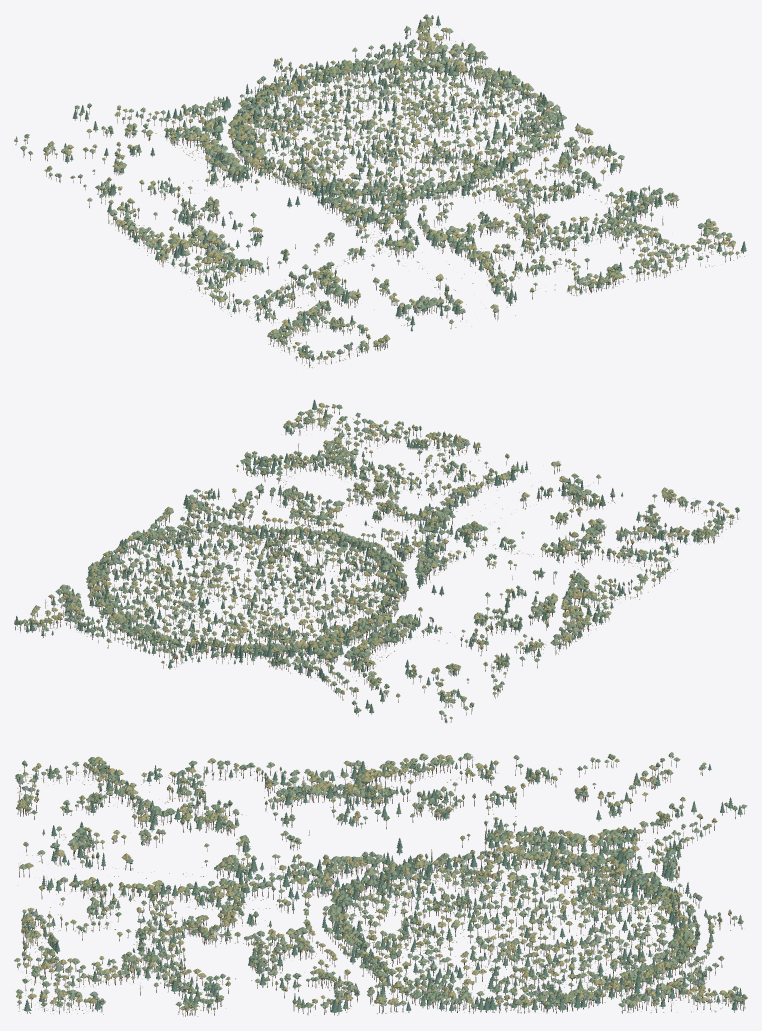
The model's file is south-retro-vegetation.glb.
3 renders of one model, top to bottom at view 1: azimuth 30°, elevation 25°; view 2: azimuth 150°, elevation 25°; view 3: azimuth 270°, elevation 25°, orthographic. The views are drawn at different scales.
Visible parts, largest first — view 1: Retro_n2_n4, Retro_n7_n3, Retro_5_n7, Retro_3_n9, Retro_n1_n3, Retro_4_n8, Retro_0_n9, Retro_5_n6, Retro_n3_n6, Retro_n2_n2, Retro_n6_n1, Retro_n1_n2 (+9 smaller); view 2: Retro_n2_n8, Retro_n1_n9, Retro_n3_n7, Retro_n2_n4, Retro_5_n7, Retro_5_n5, Retro_3_n9, Retro_n3_n6, Retro_n1_n3, Retro_2_n10, Retro_5_1, Retro_3_n3 (+8 smaller); view 3: Retro_n2_n8, Retro_5_n7, Retro_5_1, Retro_n3_n7, Retro_n3_n6, Retro_n2_n7, Retro_n6_n2, Retro_n2_n4, Retro_n1_n3, Retro_5_n4, Retro_n6_n1, Retro_5_n5 (+86 smaller).
Part boxes in pixels (x1,y1,x2,y2): Retro_n2_n4: (293, 168, 341, 198); Retro_n7_n3: (142, 232, 192, 262); Retro_5_n7: (473, 67, 520, 95); Retro_3_n9: (363, 57, 414, 87); Retro_n1_n3: (348, 175, 396, 205); Retro_4_n8: (423, 57, 467, 90); Retro_0_n9: (260, 79, 308, 112); Retro_5_n6: (490, 81, 539, 112); Retro_n3_n6: (218, 151, 267, 179); Retro_n2_n2: (338, 202, 380, 227); Retro_n6_n1: (216, 254, 262, 282); Retro_n1_n2: (371, 188, 408, 219); Retro_n2_n8: (289, 634, 340, 663); Retro_n1_n9: (239, 641, 292, 667); Retro_n3_n7: (348, 625, 393, 655); Retro_n2_n4: (364, 574, 408, 604); Retro_5_n7: (88, 557, 129, 587); Retro_5_n5: (118, 530, 169, 561); Retro_3_n9: (109, 605, 154, 637); Retro_n3_n6: (364, 615, 414, 637); Retro_n1_n3: (355, 552, 403, 582); Retro_2_n10: (129, 627, 172, 655); Retro_5_1: (236, 451, 283, 477); Retro_3_n3: (227, 521, 269, 550); Retro_n2_n8: (582, 849, 635, 883); Retro_5_n7: (536, 983, 588, 1013); Retro_5_1: (175, 981, 223, 1016); Retro_n3_n7: (539, 829, 587, 862); Retro_n3_n6: (492, 829, 541, 864); Retro_n2_n7: (538, 852, 587, 882); Retro_n6_n2: (309, 780, 359, 809); Retro_n2_n4: (402, 849, 452, 881); Retro_n1_n3: (357, 867, 404, 897); Retro_5_n4: (403, 984, 451, 1012); Retro_n6_n1: (265, 777, 312, 809); Retro_5_n5: (447, 983, 496, 1013).
Bounding box in the file's own units: 681 × 35.48 × 835.
